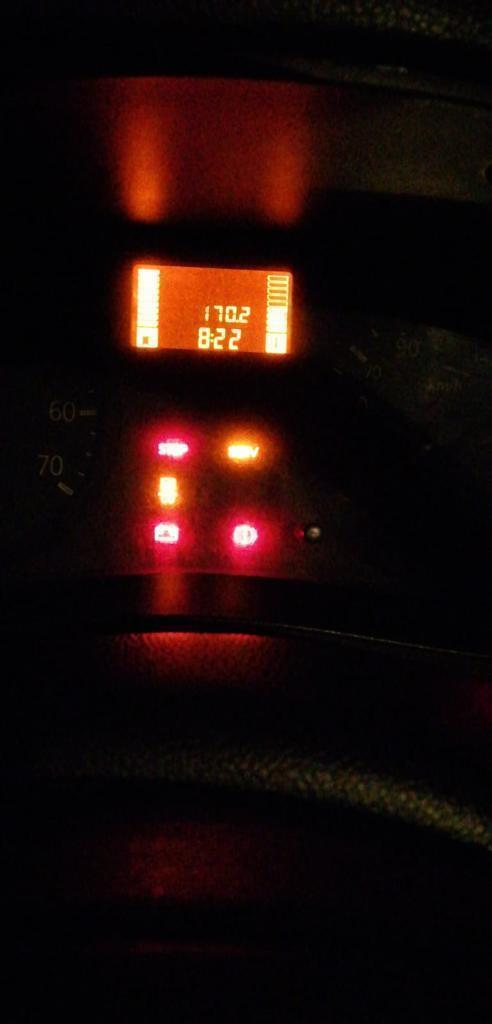,: (235, 318, 239, 324)
0: (225, 304, 237, 323)
1: (203, 303, 209, 324)
2: (228, 328, 241, 350), (214, 327, 225, 349), (239, 306, 250, 323)
7: (213, 303, 223, 322)
8: (197, 325, 209, 348)
X: (210, 331, 213, 344)
odometer: (121, 258, 300, 360)
